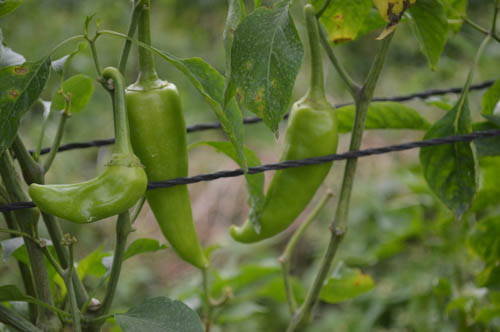ChiliPepper: (121, 86, 209, 268), (230, 107, 339, 249), (21, 161, 153, 223)
